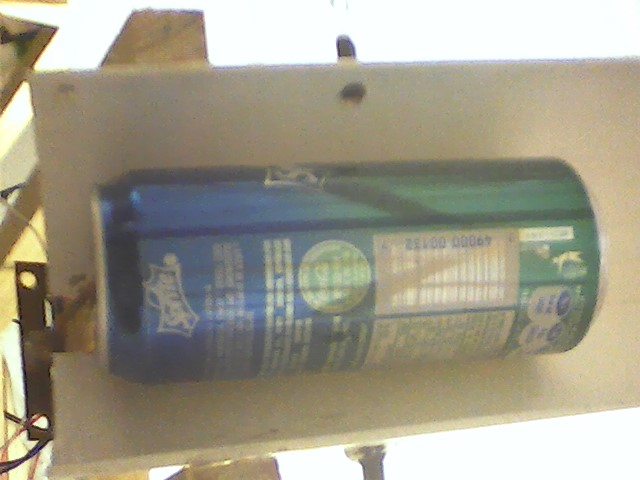lata: (85, 151, 616, 394)
